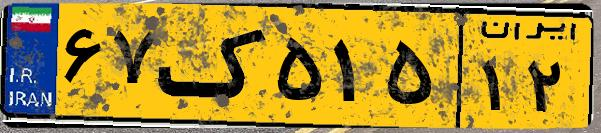1: (330, 28, 385, 110), (475, 38, 525, 113)
2: (525, 38, 570, 115)
5: (270, 28, 330, 110), (385, 28, 445, 110)
6: (57, 26, 110, 100)
7: (110, 28, 158, 98)
ک: (158, 12, 270, 120)
